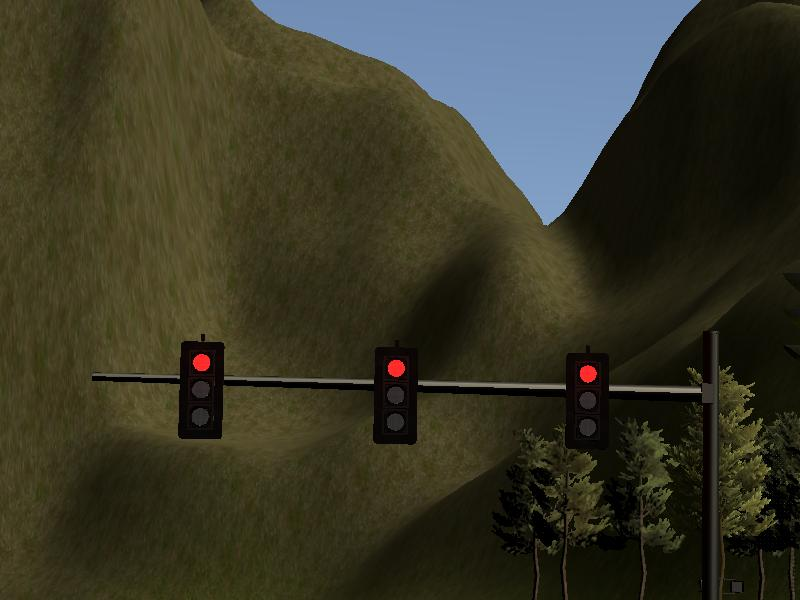red: (375, 348, 417, 446), (567, 354, 609, 452), (180, 338, 221, 438)
